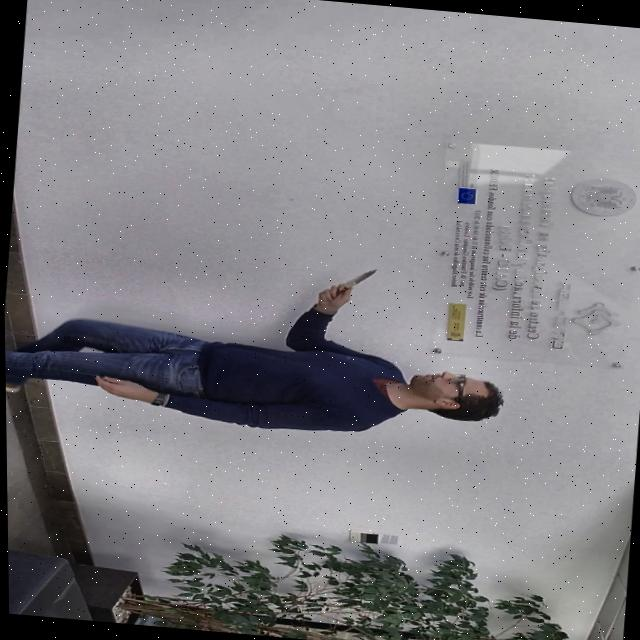knife: (335, 261, 382, 293)
